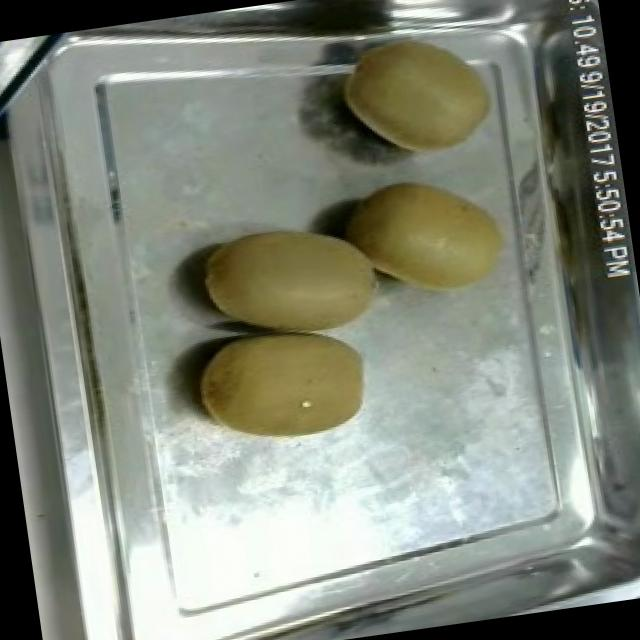Fruit: (181, 316, 384, 464), (328, 162, 518, 314), (185, 208, 387, 347), (326, 20, 504, 173)
